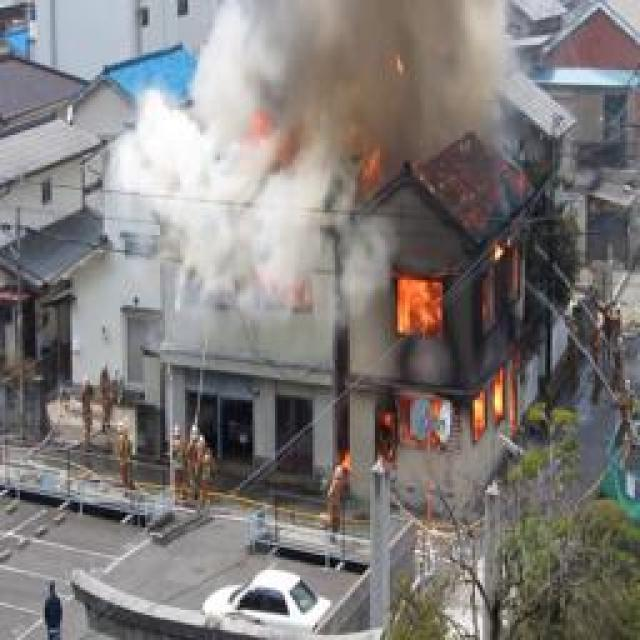Fire: (329, 224, 525, 503)
